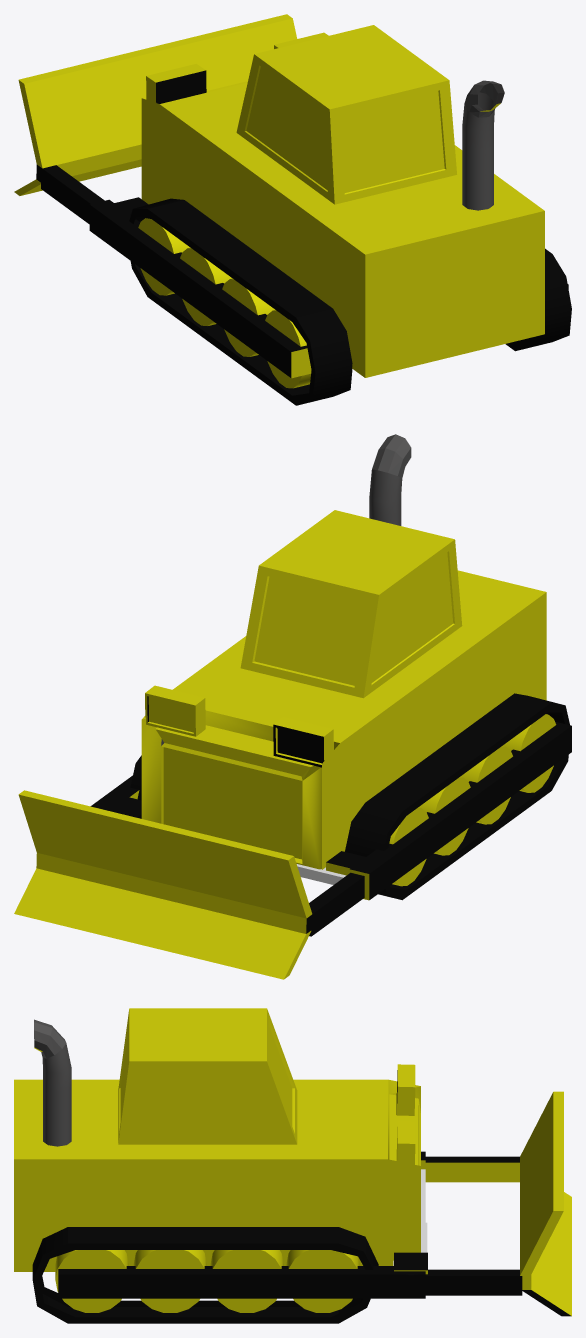
File: Dozer_low.FBX
3 views of the same model, one above another, from view 1: azimuth 30°, elevation 25°; view 2: azimuth 150°, elevation 25°; view 3: azimuth 270°, elevation 25° (orthographic). The views are drawn at different scales.
Parts seen in each view (by area): view 1: underCarrage; view 2: underCarrage; view 3: underCarrage.
Boxes of the visible parts, x1=… form: underCarrage: x1=14, y1=14, x2=571, y2=405; underCarrage: x1=14, y1=434, x2=571, y2=979; underCarrage: x1=14, y1=1008, x2=571, y2=1323.
Size of the model in its own units: 40.29 by 41.2 by 77.14.
